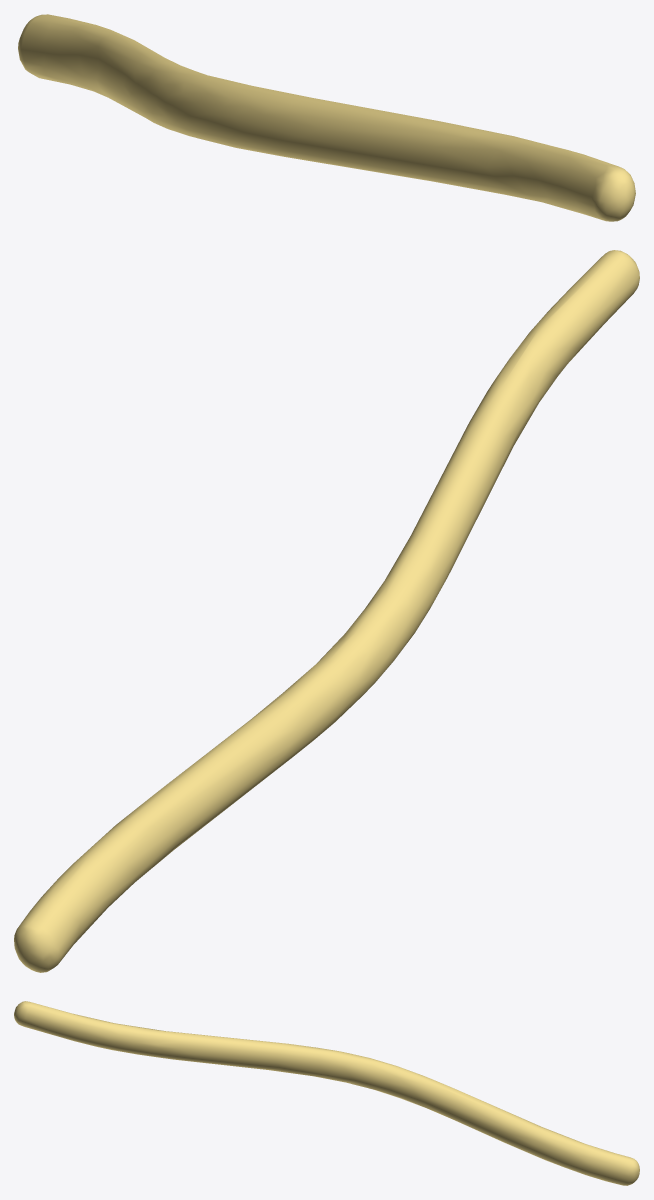
File: fma52623_fj3921.glb
3 views of the same model, one above another, from view 1: azimuth 30°, elevation 25°; view 2: azimuth 150°, elevation 25°; view 3: azimuth 270°, elevation 25° (orthographic). The views are drawn at different scales.
Parts seen in each view (by area): view 1: FMA52623_FJ3921; view 2: FMA52623_FJ3921; view 3: FMA52623_FJ3921.
Boxes of the visible parts, x1=… form: FMA52623_FJ3921: x1=18, y1=14, x2=635, y2=221; FMA52623_FJ3921: x1=14, y1=250, x2=639, y2=972; FMA52623_FJ3921: x1=14, y1=1001, x2=639, y2=1185.
Bounding box in the file's own units: 0.00506 × 0.012 × 0.0386.
